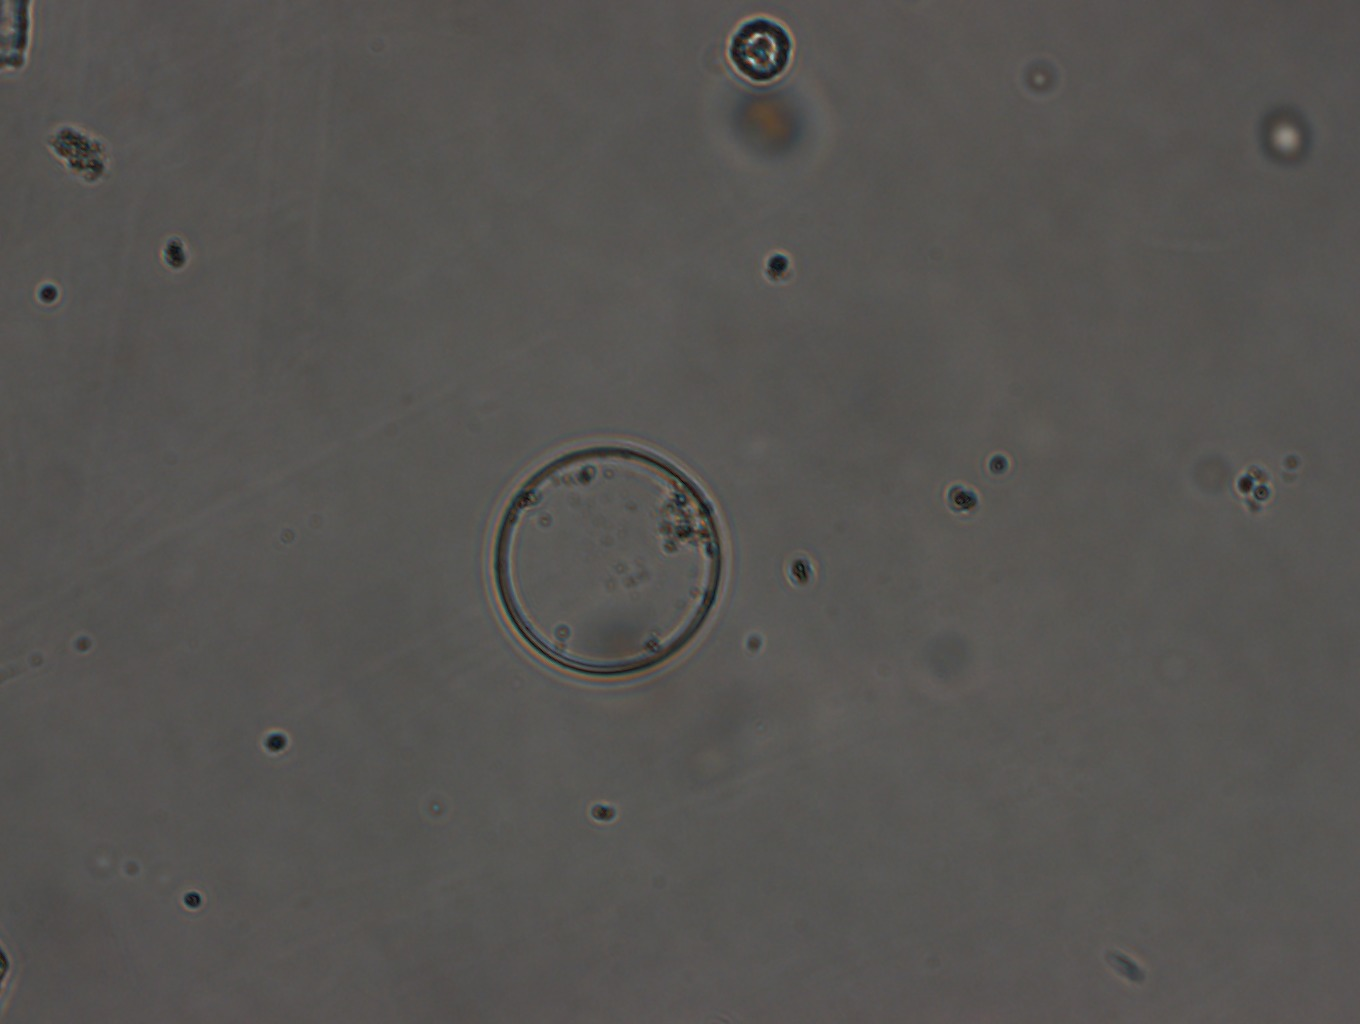coscinodiscus: (490, 441, 739, 686)
